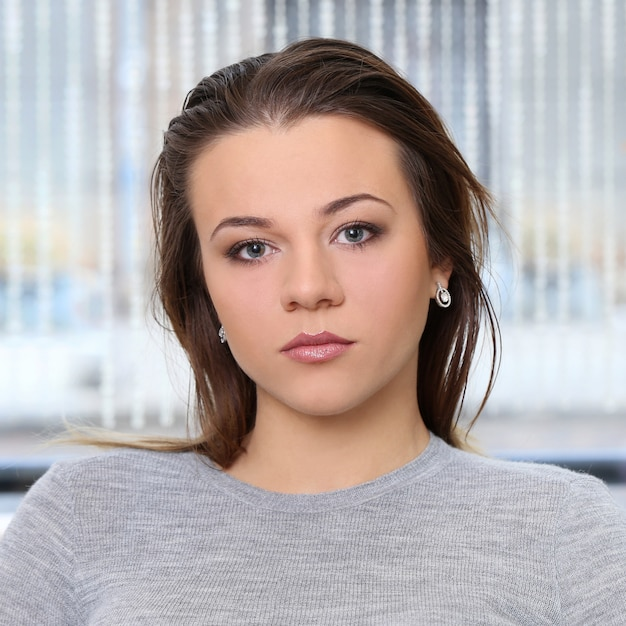teen: (150, 47, 480, 430)
